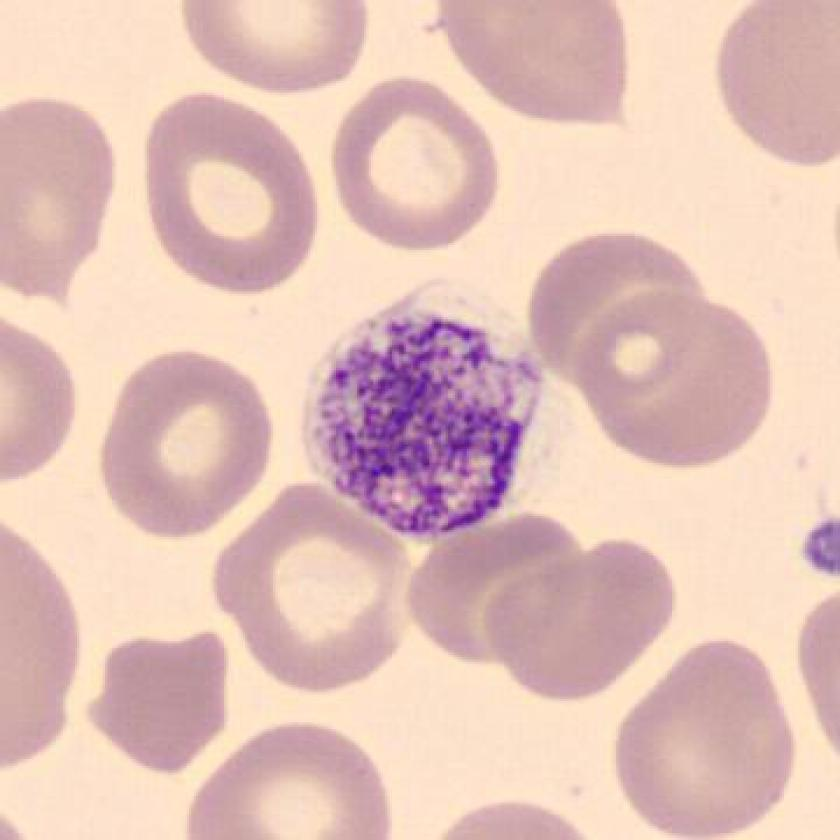platelets: (286, 270, 573, 550)
